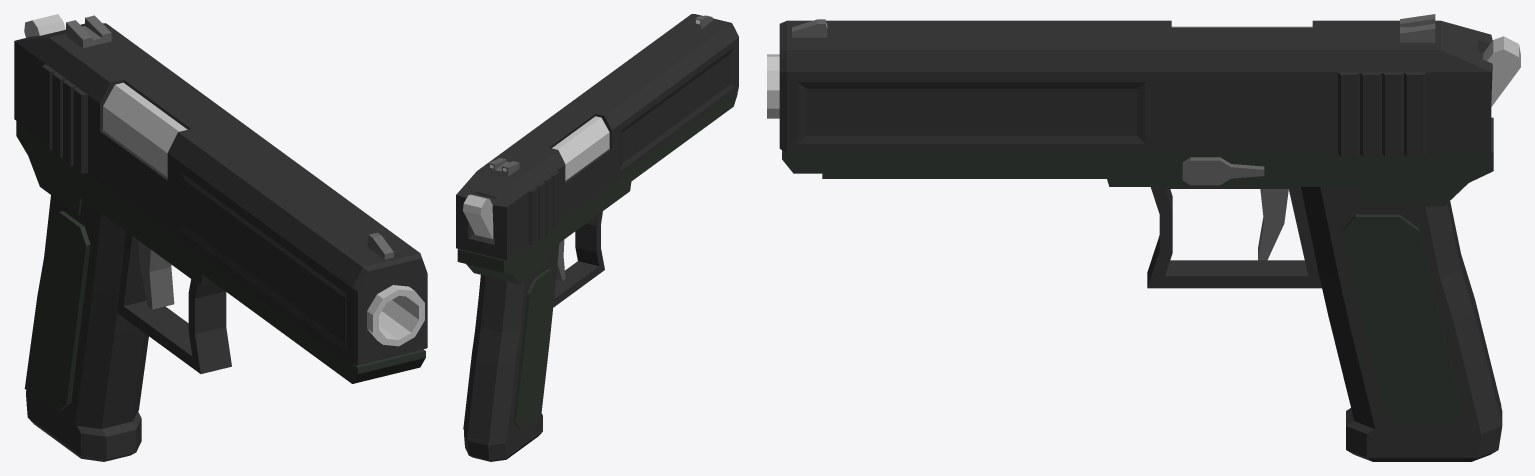
Rendered from AsimovPistol.fbx.
3 renders of one model, left to right at view 1: azimuth 30°, elevation 25°; view 2: azimuth 150°, elevation 25°; view 3: azimuth 270°, elevation 25°, orthographic. The views are drawn at different scales.
Parts seen in each view (by area): view 1: AsimovPistol; view 2: AsimovPistol; view 3: AsimovPistol.
Boxes of the visible parts, box(x1,y1,x2,y2) form: AsimovPistol: box(14, 14, 427, 461); AsimovPistol: box(456, 14, 738, 461); AsimovPistol: box(767, 14, 1520, 461).
Bounding box in the file's own units: 8.94 × 41.58 × 66.38.
